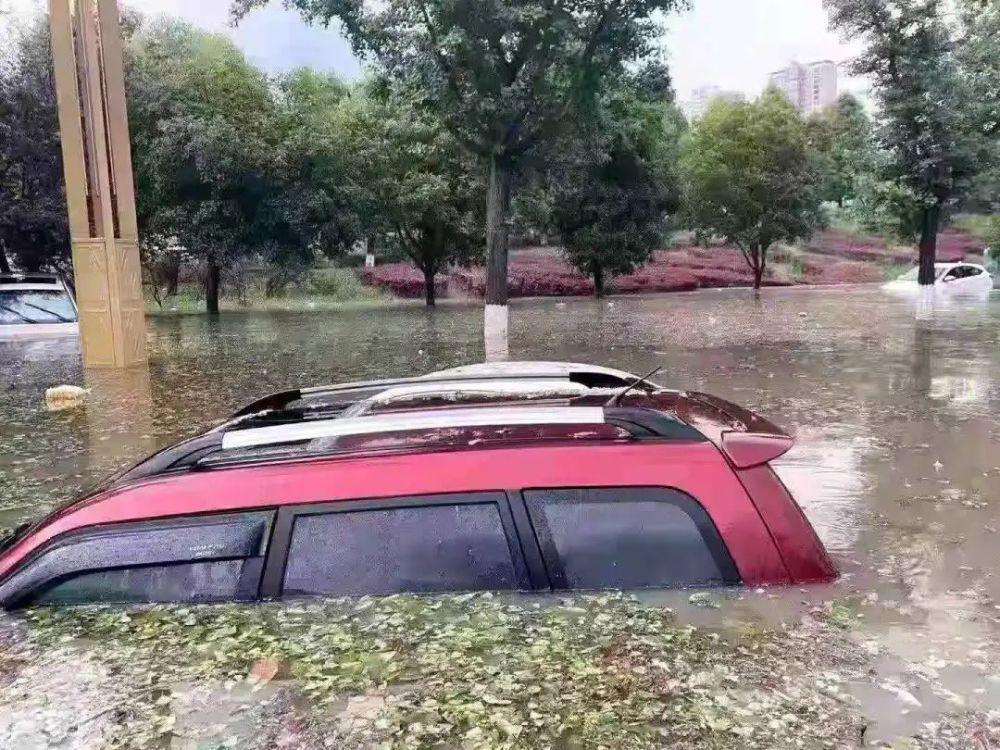water: (0, 284, 999, 749)
